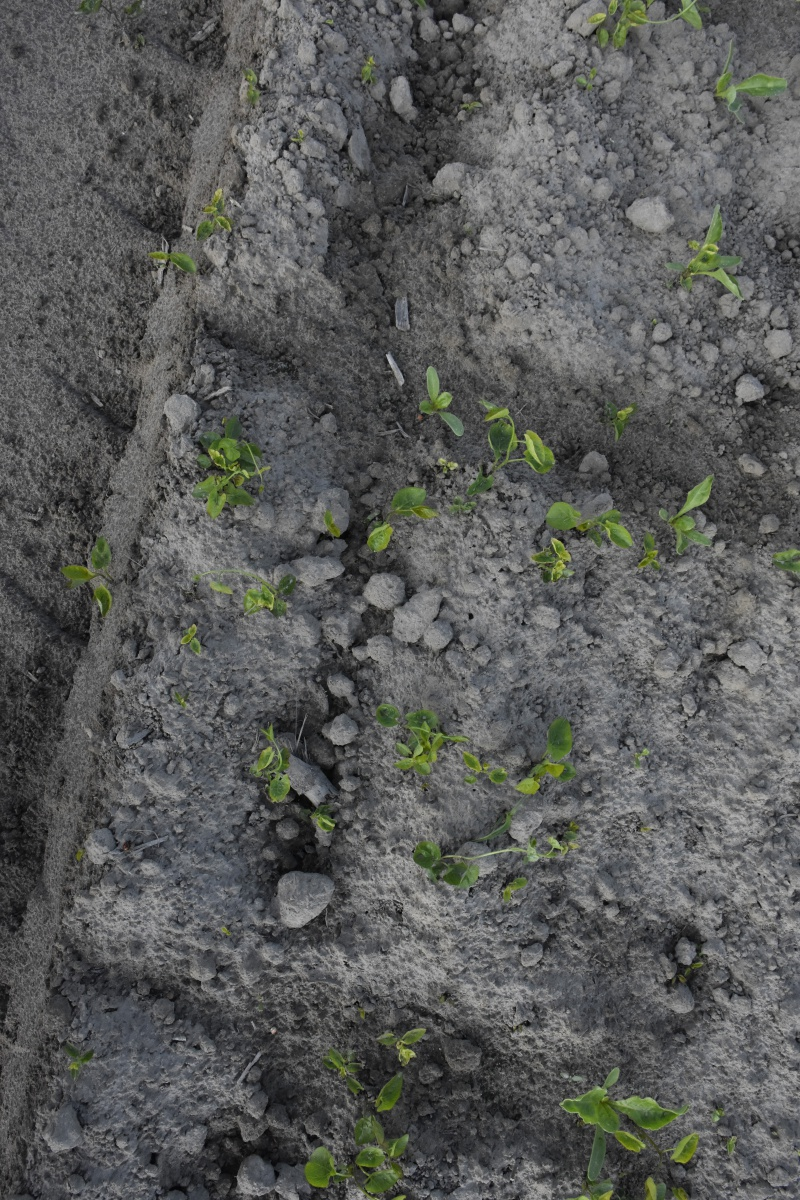field bindweed: (419, 816, 580, 894), (191, 424, 275, 519), (308, 1124, 411, 1200), (193, 565, 297, 619), (250, 727, 298, 813), (65, 544, 117, 618), (370, 1023, 441, 1075)
sugar beet: (574, 1072, 675, 1175), (668, 221, 753, 300), (714, 47, 792, 129), (657, 474, 727, 562), (414, 362, 466, 442)
